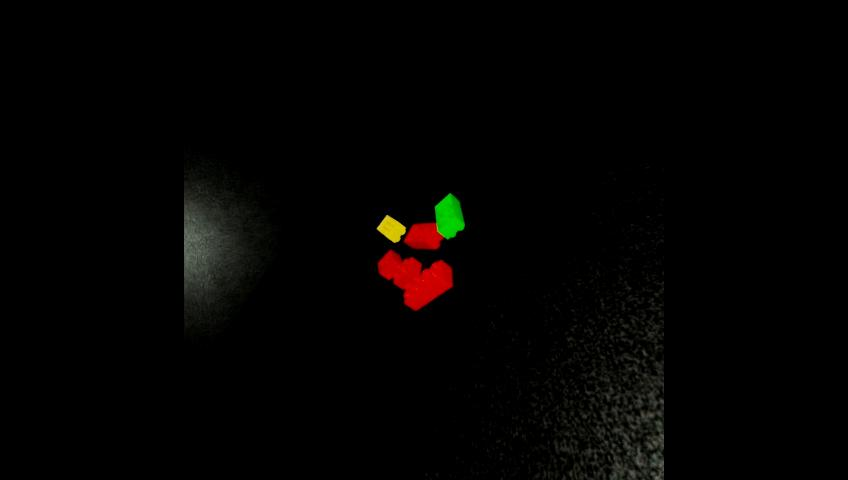2x2_red: (392, 258, 421, 289), (377, 250, 401, 278)
4x2_green: (434, 194, 464, 239)
4x2_red: (404, 260, 452, 309), (403, 222, 444, 249)
4x2_yellow: (377, 215, 406, 241)
